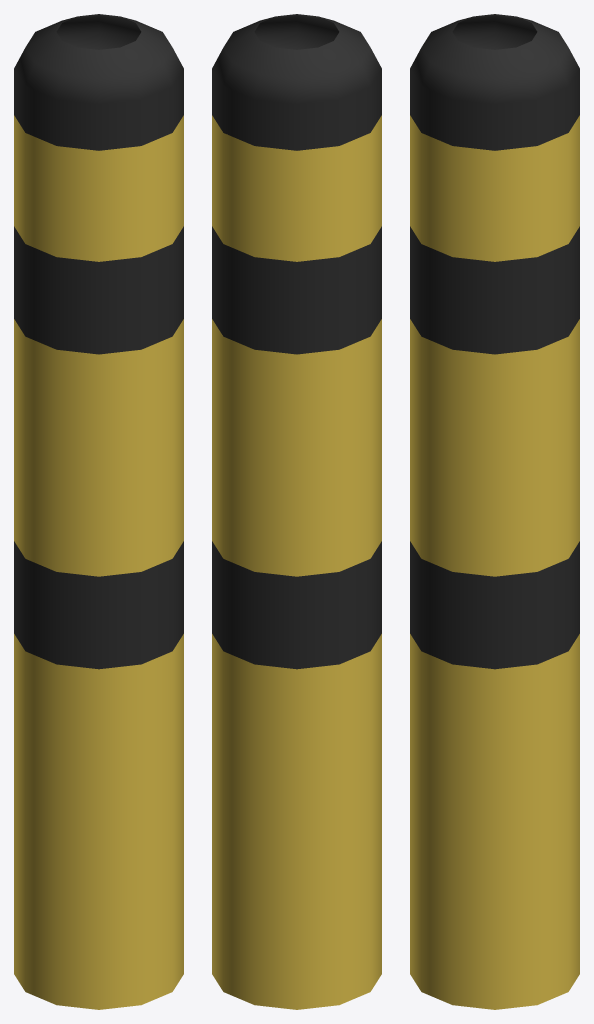
Rendered from bollard.glb.
3 views of the same model, side by side, from view 1: azimuth 30°, elevation 25°; view 2: azimuth 150°, elevation 25°; view 3: azimuth 270°, elevation 25° (orthographic).
Parts seen in each view (by area): view 1: bollard; view 2: bollard; view 3: bollard.
Part boxes in pixels (bbox=[...]): bollard: bbox=[14, 14, 183, 1009]; bollard: bbox=[212, 14, 381, 1009]; bollard: bbox=[410, 14, 579, 1009].
Bounding box in the file's own units: 0.13 × 0.795 × 0.13.
